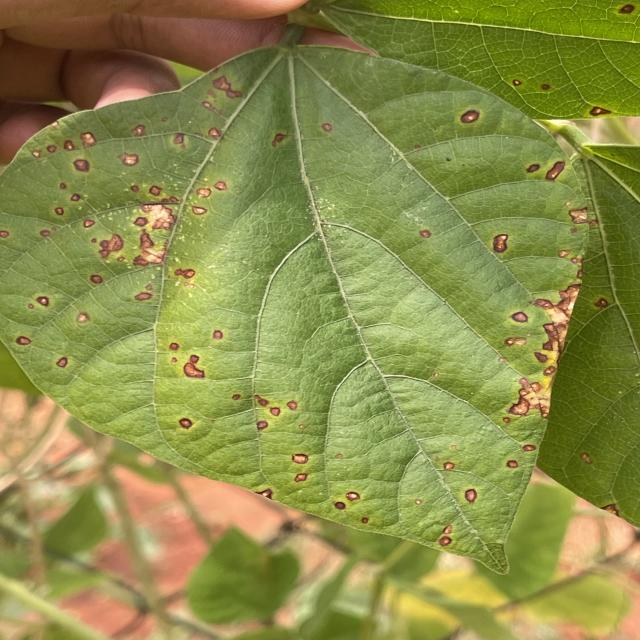Dolicos bean_cercospora leaf spot: (0, 40, 585, 574)
